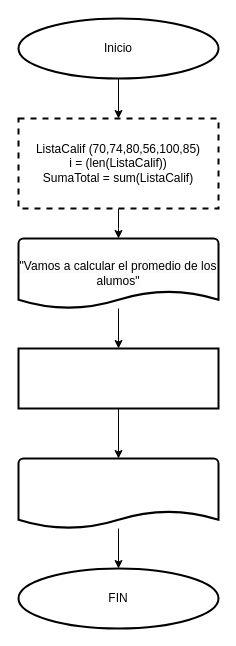
The diagram is 236 pixels wide and 646 high, and some of its shapes have lost their labels. Here are the shapes that lost their labels. From the top down, the centre of each, then its label:
point 118,378: Promedio = SumaTotal / i
point 118,493: "Promedio de alumnos es, "Promedio
